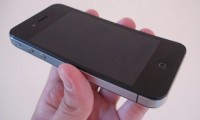Phone: (8, 2, 188, 109)
